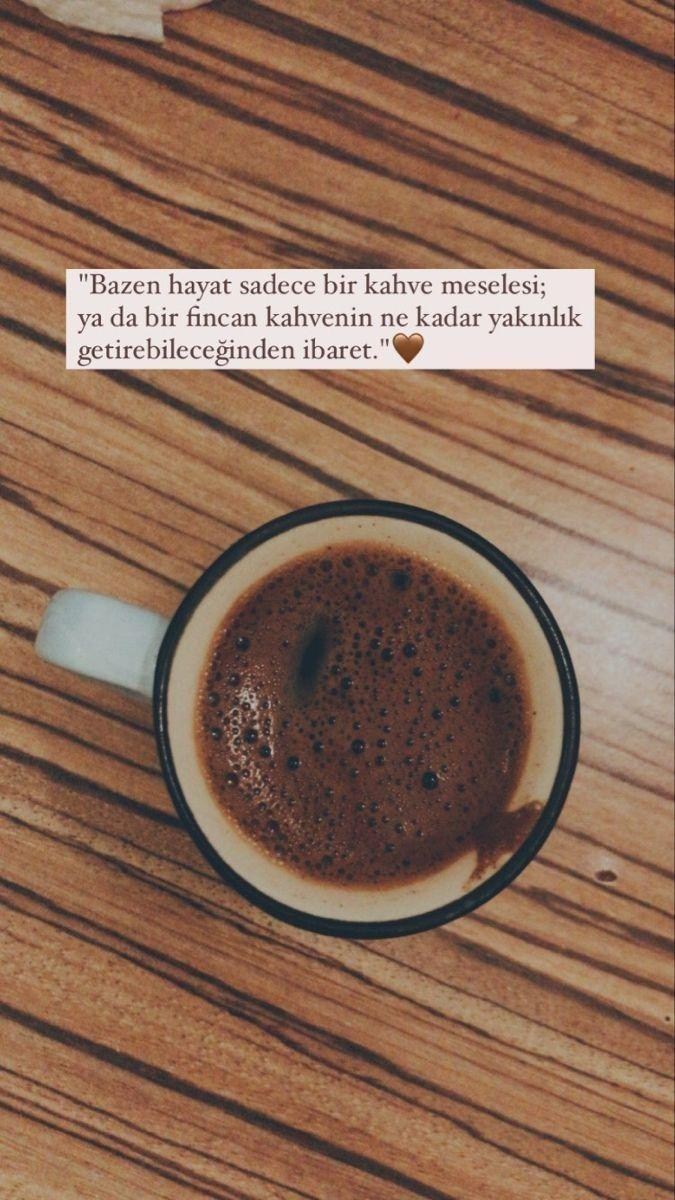cup-handle: (32, 495, 580, 942)
